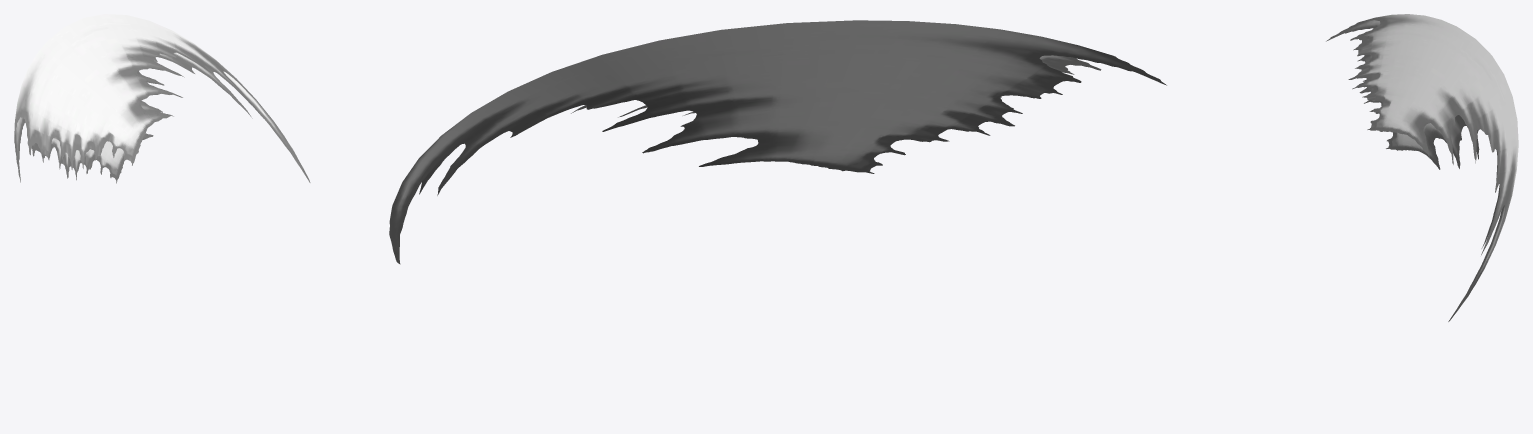
File: fx_cookie0135_front_skill01.fbx
3 views of the same model, side by side, from view 1: azimuth 30°, elevation 25°; view 2: azimuth 150°, elevation 25°; view 3: azimuth 270°, elevation 25° (orthographic). The views are drawn at different scales.
Visible parts, largest first — view 1: L_scratch2; view 2: L_scratch2; view 3: L_scratch2.
Boxes of the visible parts, box(x1,y1,x2,y2) form: L_scratch2: box(14, 14, 310, 183); L_scratch2: box(389, 20, 1166, 264); L_scratch2: box(1326, 14, 1518, 321).
Size of the model in its own units: 463 by 398 by 304.
Materials: 1 (1 with a texture image).
